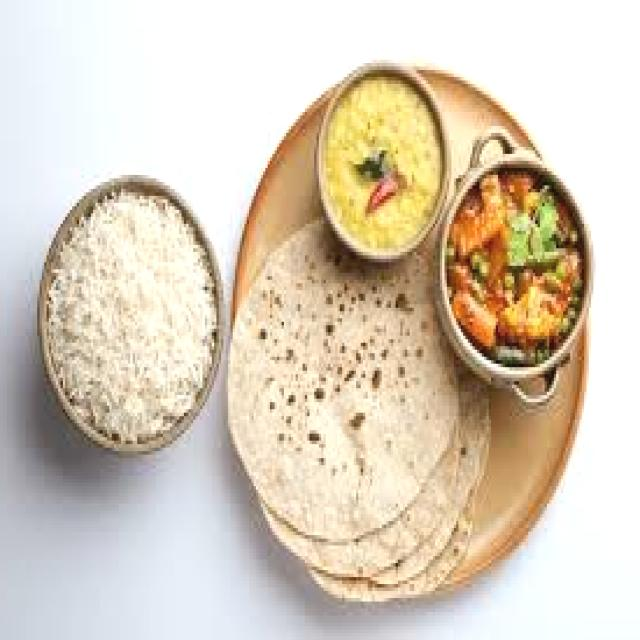Rice: (45, 181, 216, 424)
chapathi: (237, 274, 435, 577)
